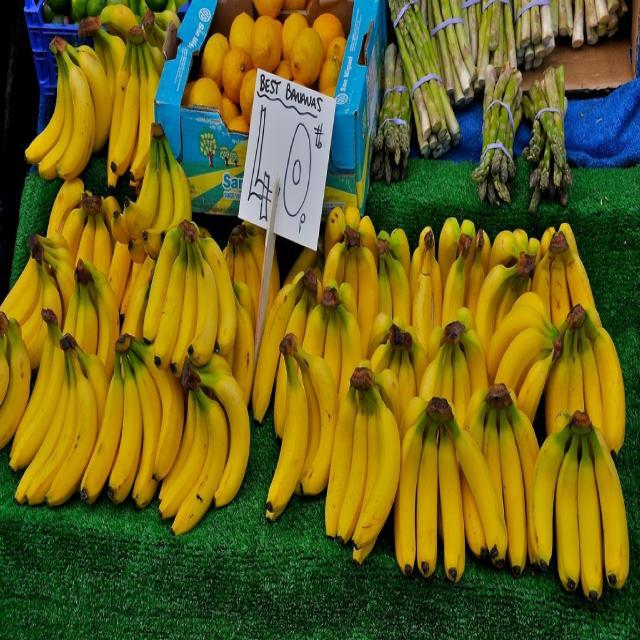Banana: (0, 6, 631, 602), (266, 336, 307, 513)
